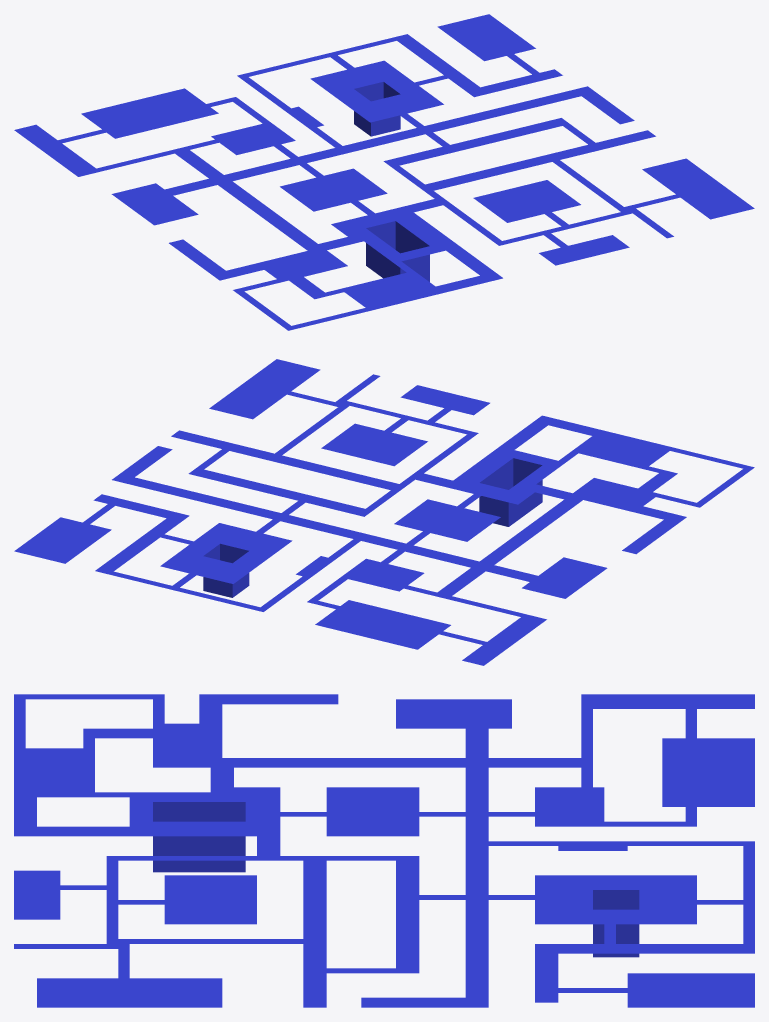
Rendered from nav_test_stage.fbx.
3 renders of one model, top to bottom at view 1: azimuth 30°, elevation 25°; view 2: azimuth 150°, elevation 25°; view 3: azimuth 270°, elevation 25°, orthographic. The views are drawn at different scales.
Visible parts, largest first — view 1: 平面.002; view 2: 平面.002; view 3: 平面.002.
Part boxes in pixels (x1,y1,x2,y2): 平面.002: [14, 14, 754, 330]; 平面.002: [14, 359, 754, 665]; 平面.002: [14, 694, 754, 1007].
Bounding box in the file's own units: 20000 × 1508 × 20000.
